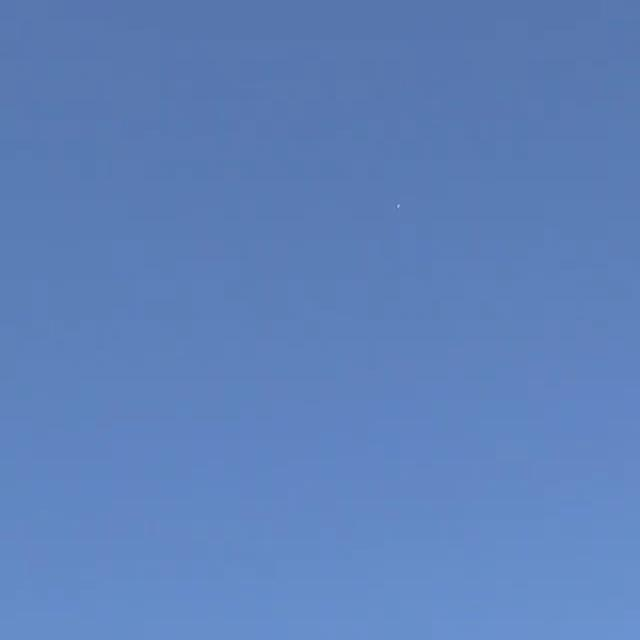AirPlane: (387, 193, 411, 219)
